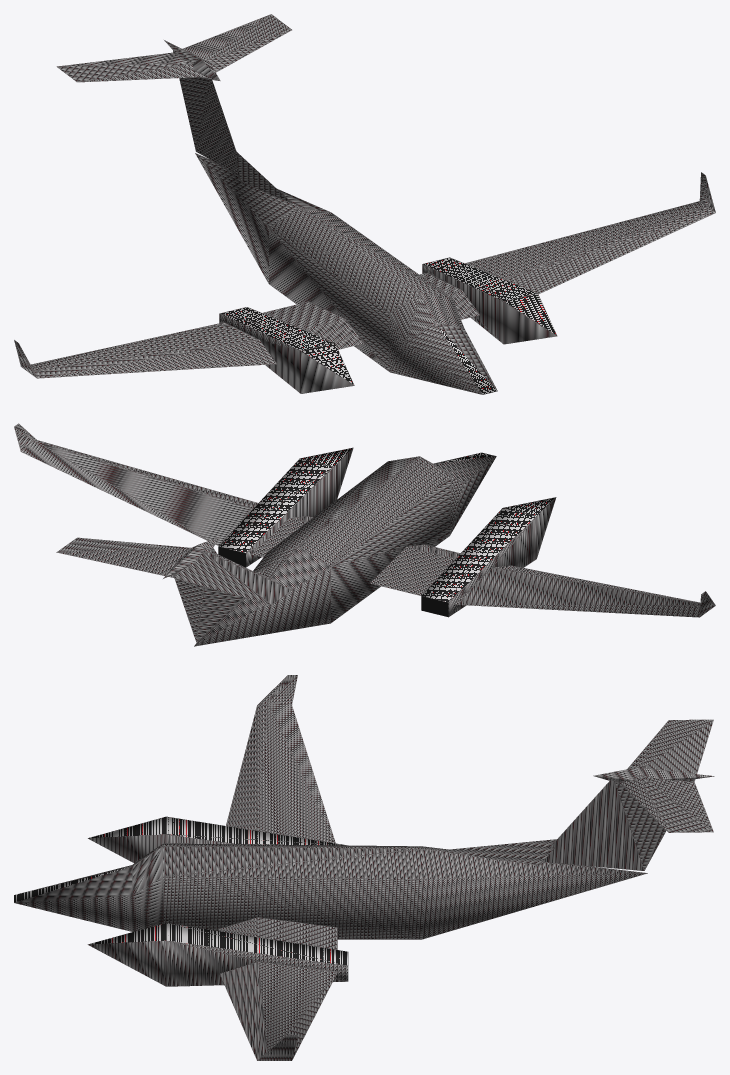
File: KINGAIR_350I_LOD6.gltf
3 views of the same model, one above another, from view 1: azimuth 30°, elevation 25°; view 2: azimuth 150°, elevation 25°; view 3: azimuth 270°, elevation 25° (orthographic). The views are drawn at different scales.
Parts seen in each view (by area): view 1: Airframe; view 2: Airframe; view 3: Airframe.
Part boxes in pixels (x1,y1,x2,y2): Airframe: (14,14,715,394); Airframe: (14,423,715,646); Airframe: (14,675,714,1060).
Size of the model in its own units: 17.59 by 3.58 by 14.5.
